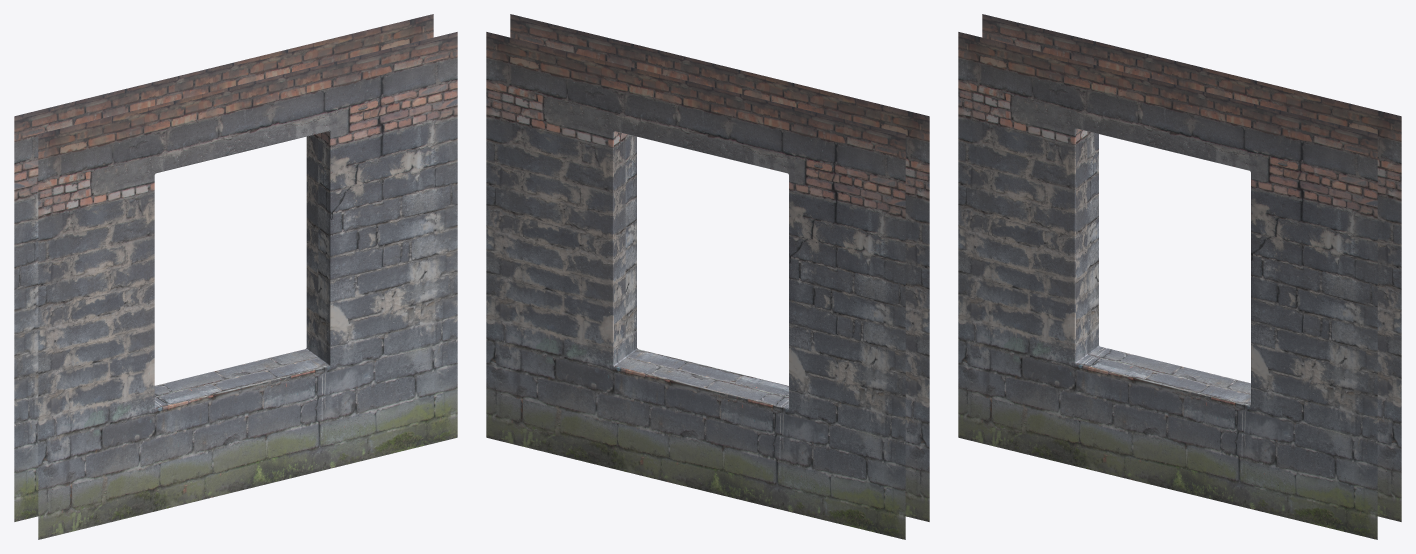
Rendered from sm_Wall_06_09.fbx.
The picture shows the model from 3 angles, left to right: view 1: azimuth 30°, elevation 25°; view 2: azimuth 150°, elevation 25°; view 3: azimuth 330°, elevation 25°; orthographic projection.
Parts seen in each view (by area): view 1: sm_Wall_06_09_LOD0; view 2: sm_Wall_06_09_LOD0; view 3: sm_Wall_06_09_LOD0.
Boxes of the visible parts, x1=… form: sm_Wall_06_09_LOD0: x1=14, y1=14, x2=457, y2=539; sm_Wall_06_09_LOD0: x1=486, y1=14, x2=929, y2=539; sm_Wall_06_09_LOD0: x1=958, y1=14, x2=1401, y2=539.
Size of the model in its own units: 40.31 by 400 by 370.
